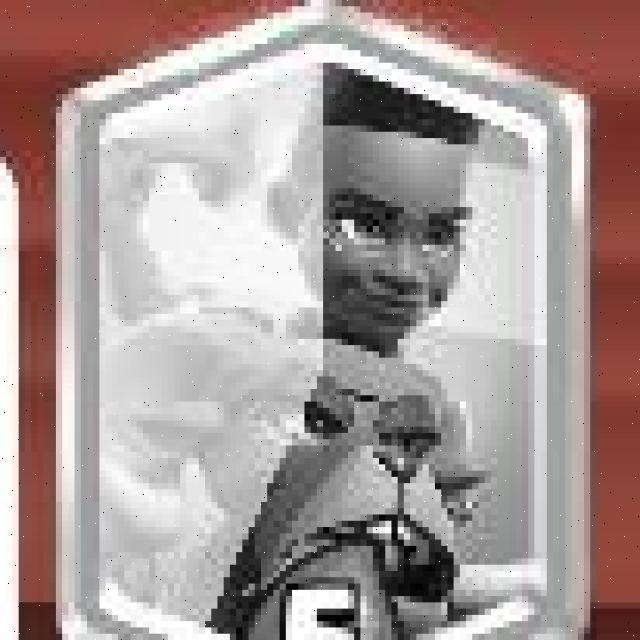Ram_Rider: (55, 8, 593, 640)
